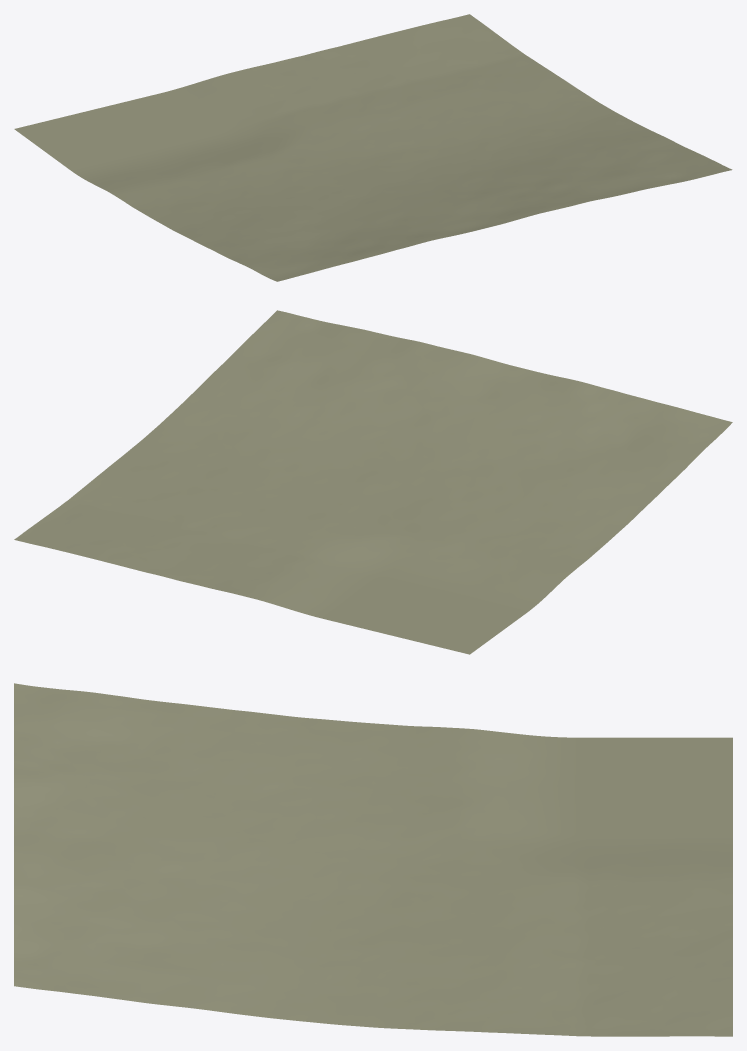
Rendered from SM_VB_Terrain_2_2.fbx.
3 renders of one model, top to bottom at view 1: azimuth 30°, elevation 25°; view 2: azimuth 150°, elevation 25°; view 3: azimuth 270°, elevation 25°, orthographic. The views are drawn at different scales.
Visible parts, largest first — view 1: SM_VB_Terrain_2_2; view 2: SM_VB_Terrain_2_2; view 3: SM_VB_Terrain_2_2.
Boxes of the visible parts, <box> form: SM_VB_Terrain_2_2: <box>14,14,732,281</box>; SM_VB_Terrain_2_2: <box>14,310,732,654</box>; SM_VB_Terrain_2_2: <box>14,683,732,1036</box>.
Bounding box in the file's own units: 400 × 36.84 × 400.
